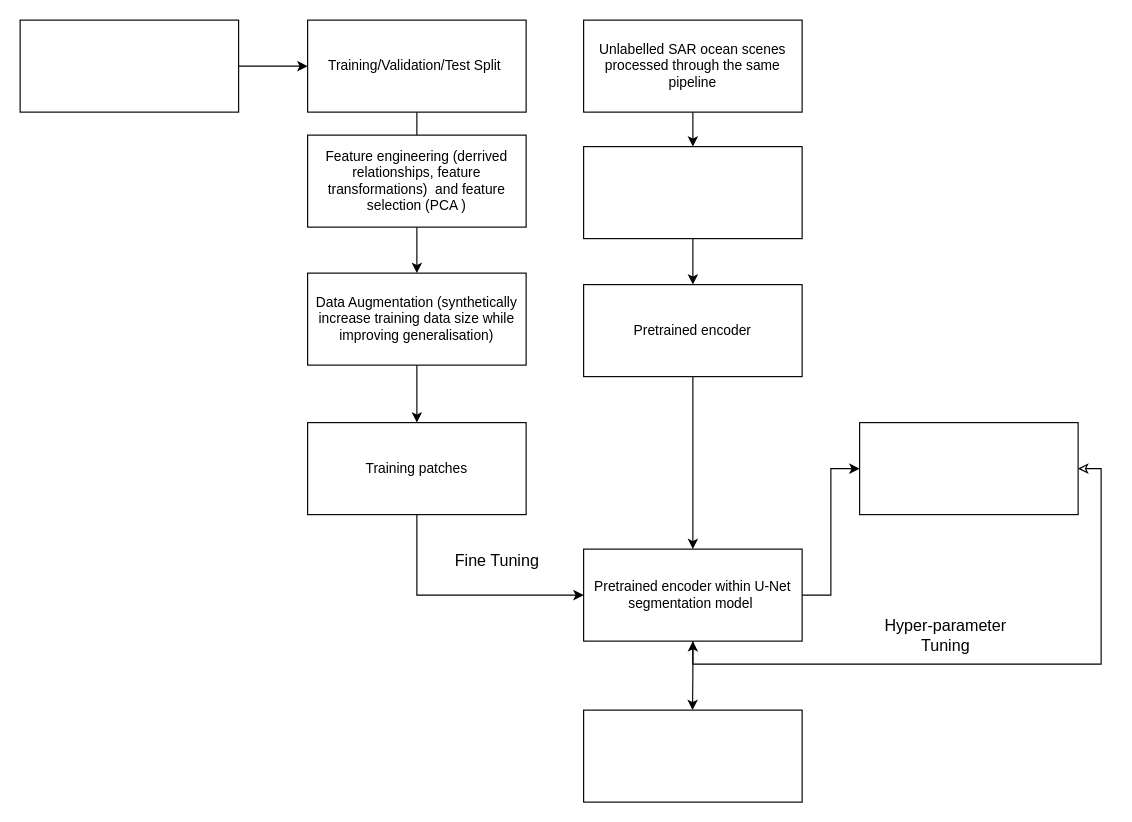
This 1132x822 diagram has some shape labels left out. Each missing label, with the centre of its shape:
"Demonstration against test set" goes at (x=692, y=755).
"Predictons against validation set" goes at (x=968, y=468).
"Prepared Labelled Patches" goes at (x=129, y=65).
"Self-Supervised Learning" goes at (x=692, y=192).
